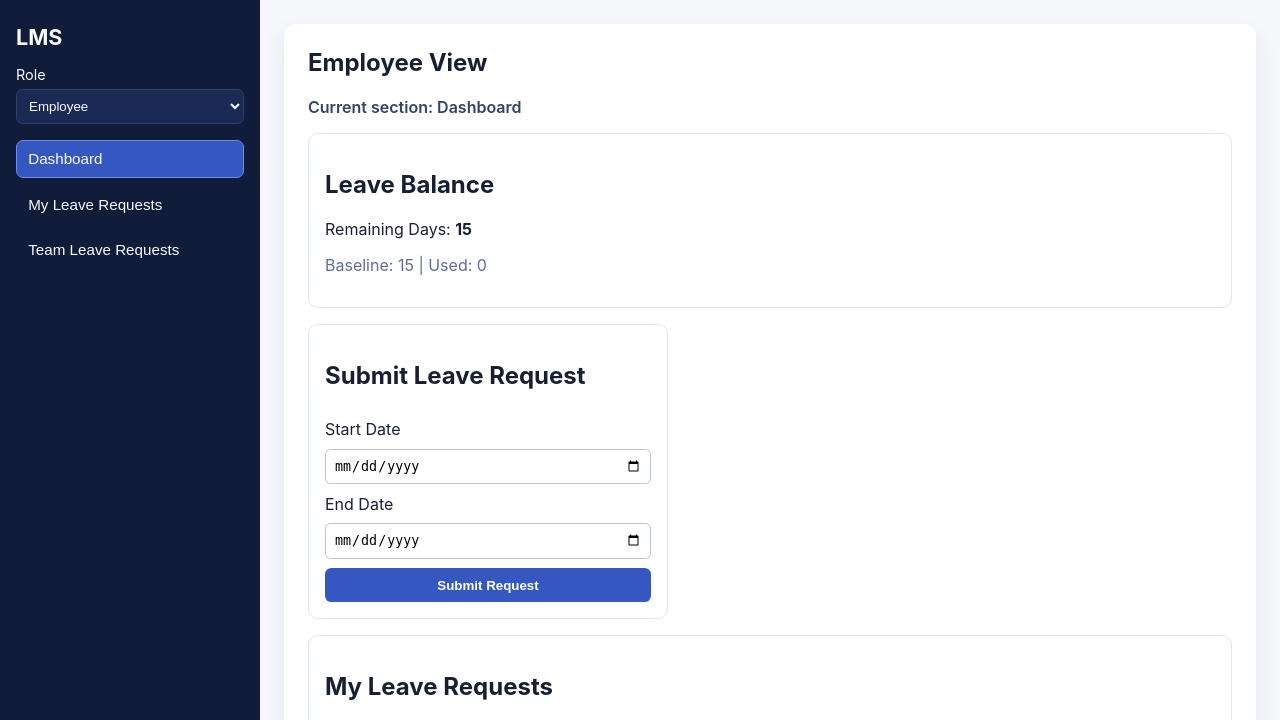
Test: App › employee submission keeps balance unchanged until manager approval
Check: the text "Remaining Days: 15" is shown, box [325, 219, 472, 239]
Check: the text "15" is shown, box [455, 219, 472, 239]
Type "2026-07-01" into the date field labelled "Start Date".
click(488, 466); type("2026-07-01")  # box [325, 449, 651, 484]
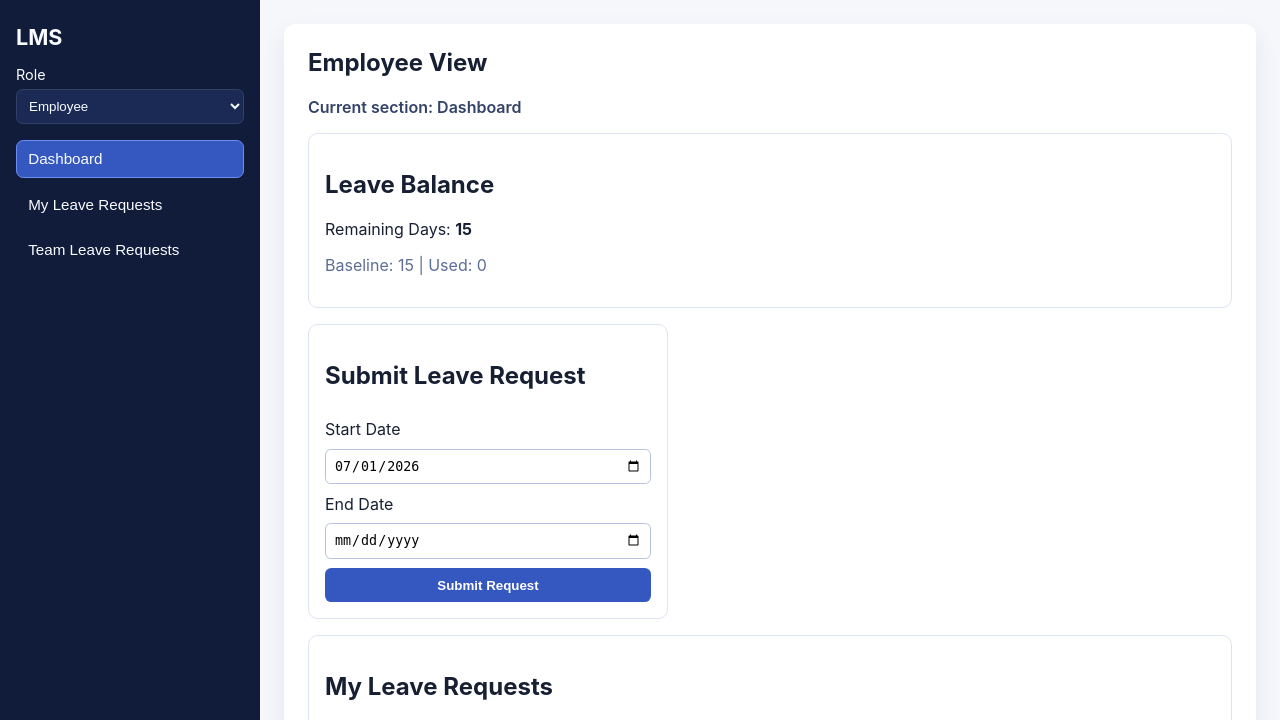
Type "2026-07-03" into the date field labelled "End Date".
click(488, 541); type("2026-07-03")  # box [325, 523, 651, 558]
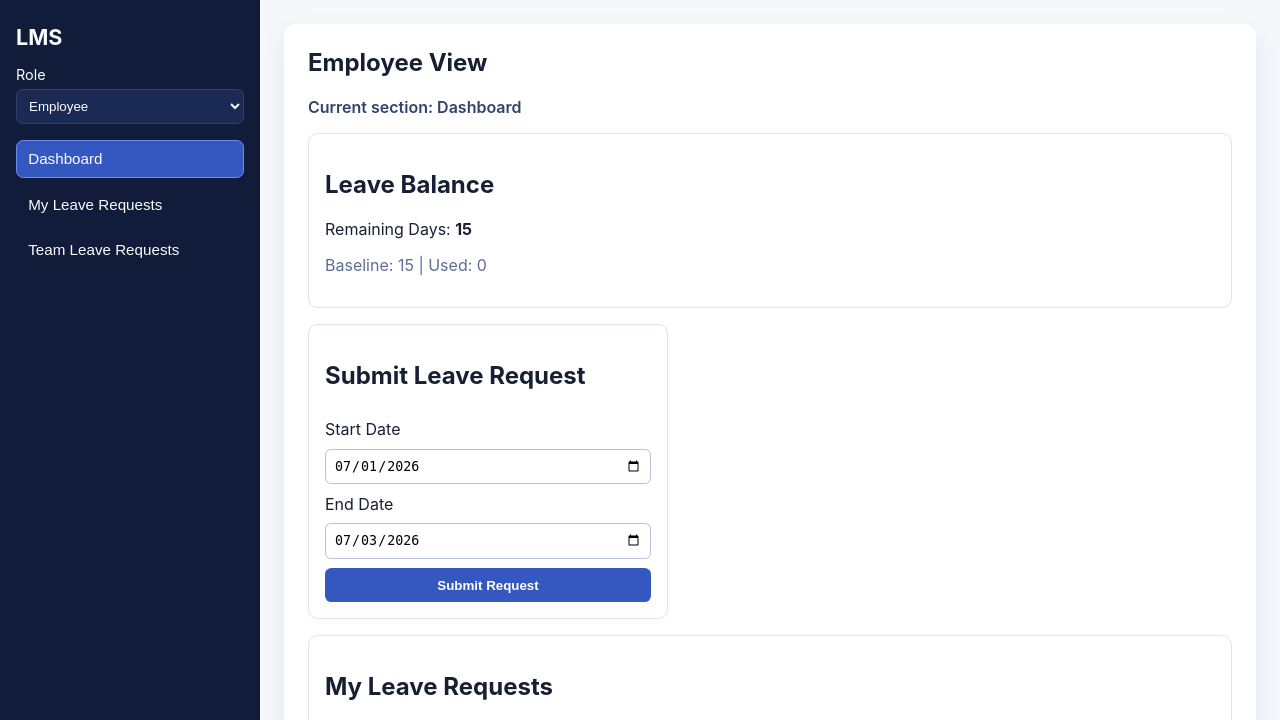
Click the button "Submit Request".
click(488, 585)  # box [325, 568, 651, 602]
(page scrolled)
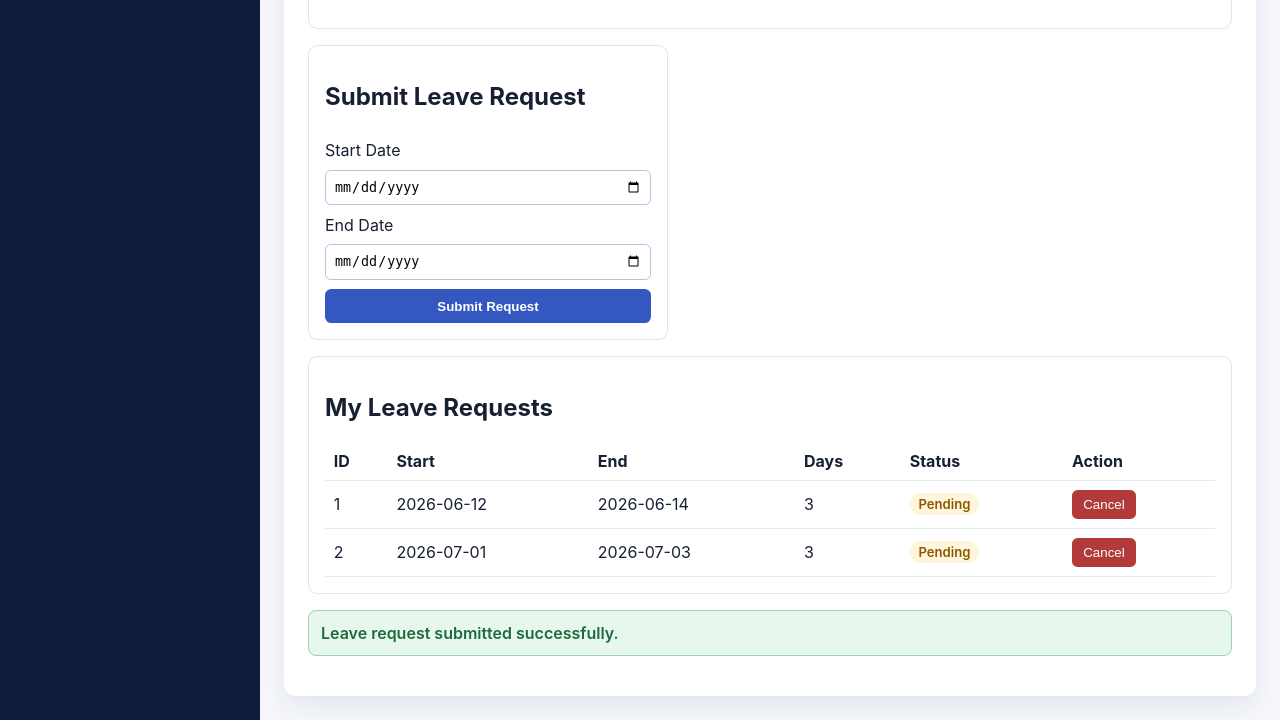
Check: the message reads "Leave request submitted successfully.", box [321, 623, 619, 643]
Check: the button with aria-label "Cancel request 2" is shown, box [1072, 538, 1136, 567]
